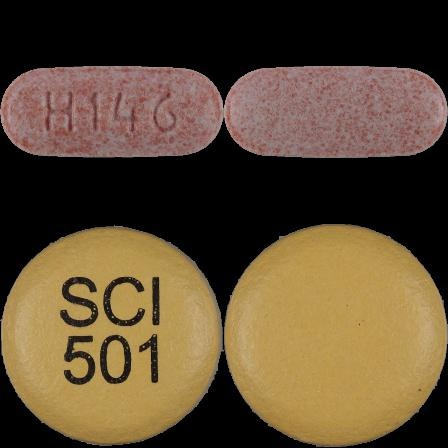0615-8063: (0, 0, 224, 224)
